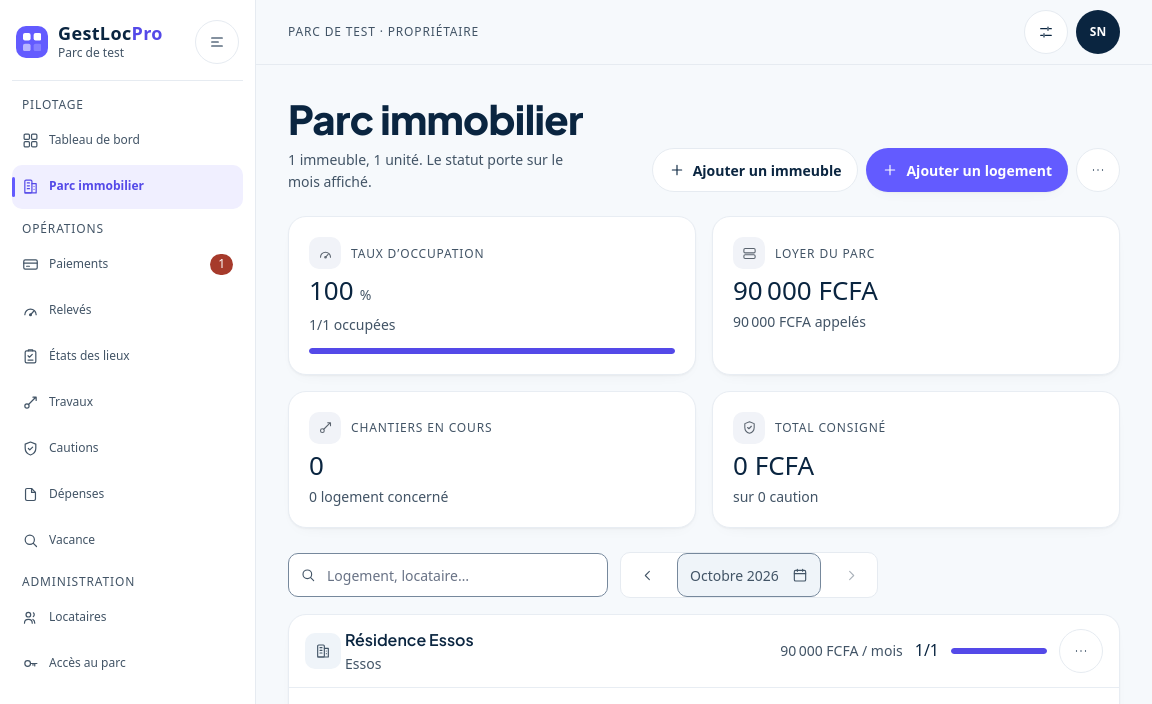
Test: les actions d’en-tête › n’ouvre jamais un menu VIDE sur le parc
Click the button named "Autres actions" at [1098, 170], box [1076, 148, 1120, 192]
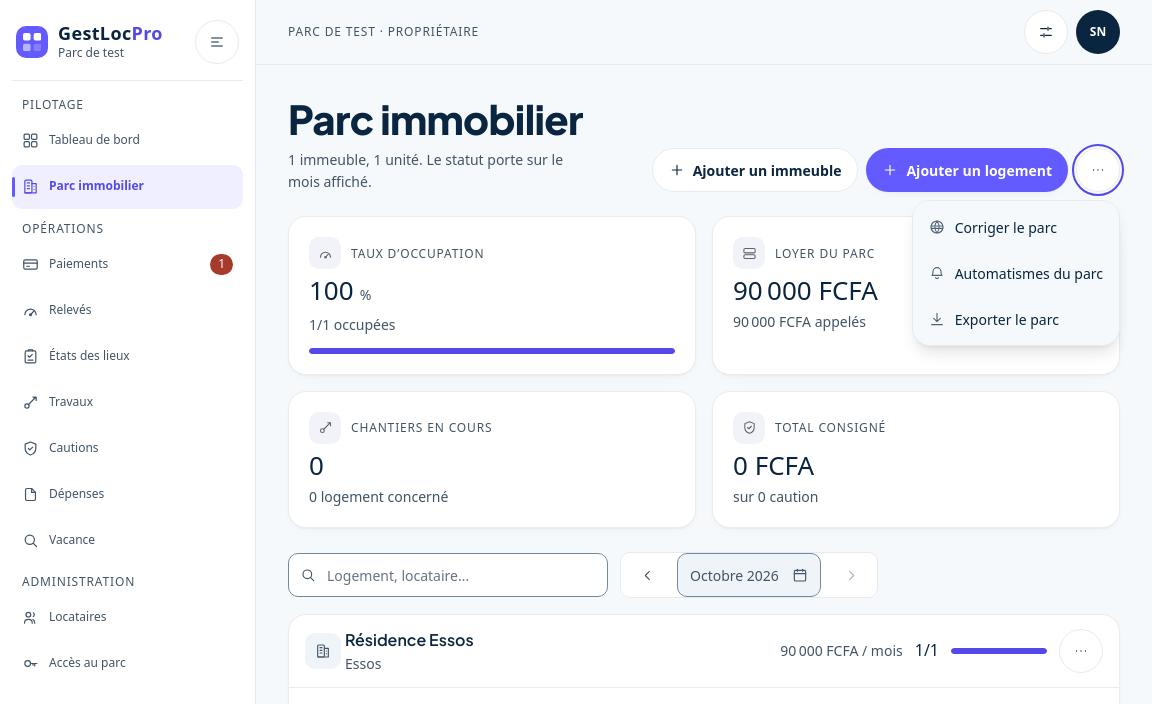
Check: the menu item "Corriger le parc" is shown, box [917, 205, 1115, 249]
